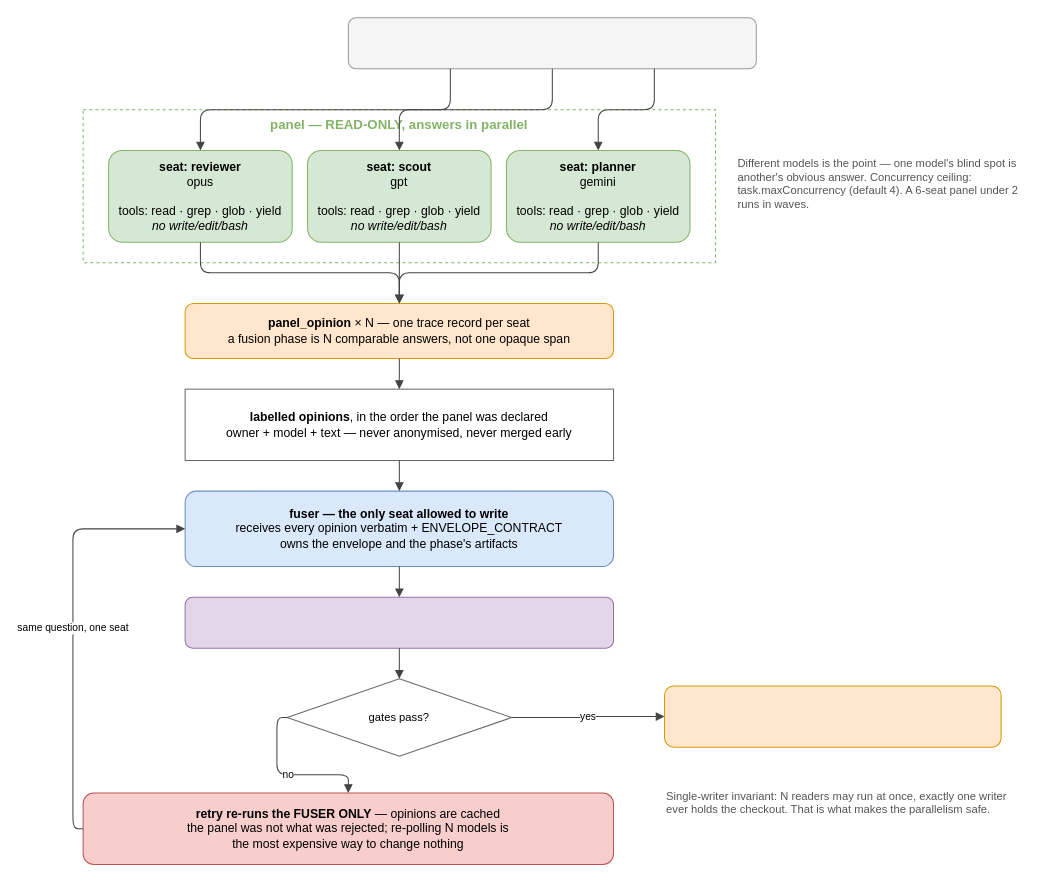
Some shapes in this 1060 by 882 pixel diagram are drawn without their labels. The shapes that lost their labels are listed below. From the top down, each one's centre as x and y in pixels, then its label:
At [551,43]: "one question — request + phase instructions every seat gets the identical prompt".
At [399,622]: "gates — verify the fuser's claimed artifacts".
At [832,716]: "phase_finished the fused envelope becomes the handoff".
